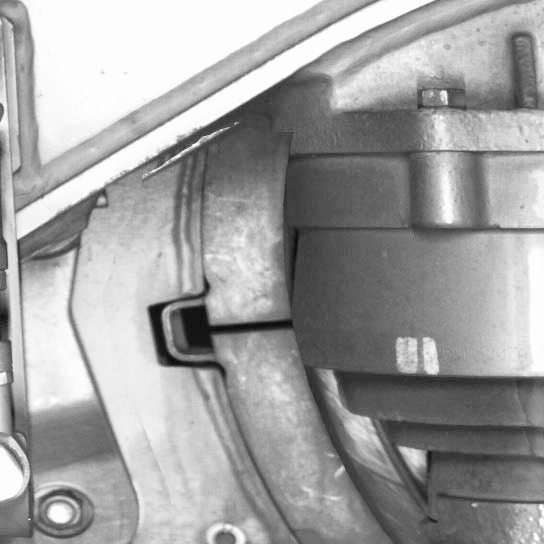ClosedKnifeSwitch: (205, 149, 416, 541)
